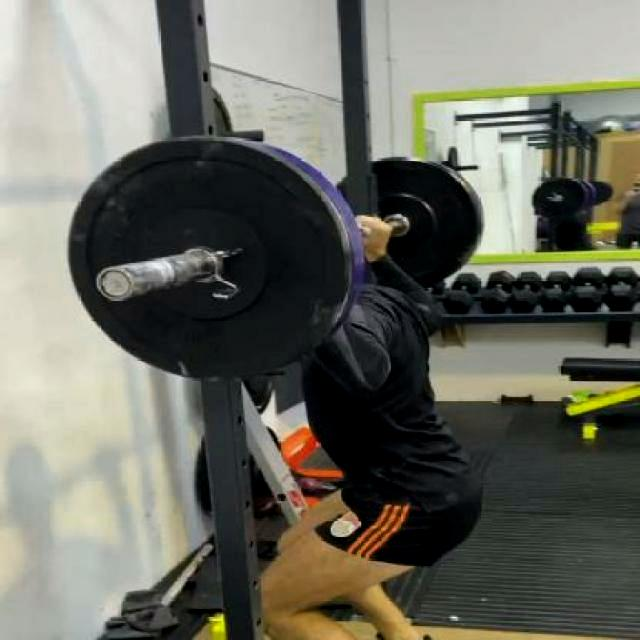barbell: (44, 131, 380, 394)
